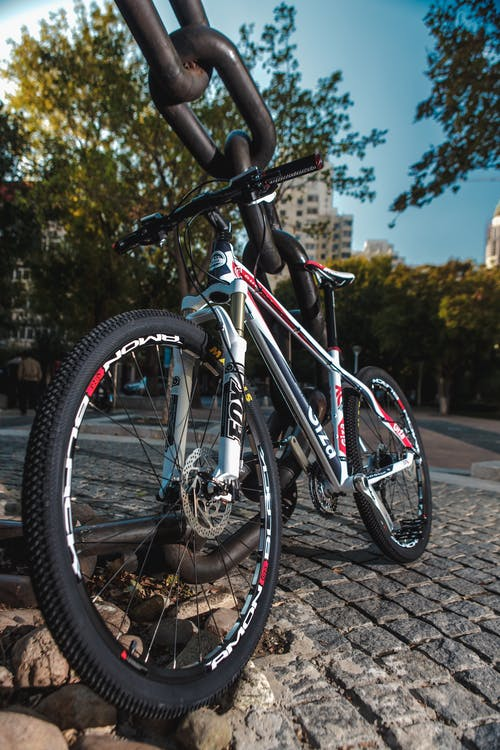bicycle: (14, 139, 436, 729)
